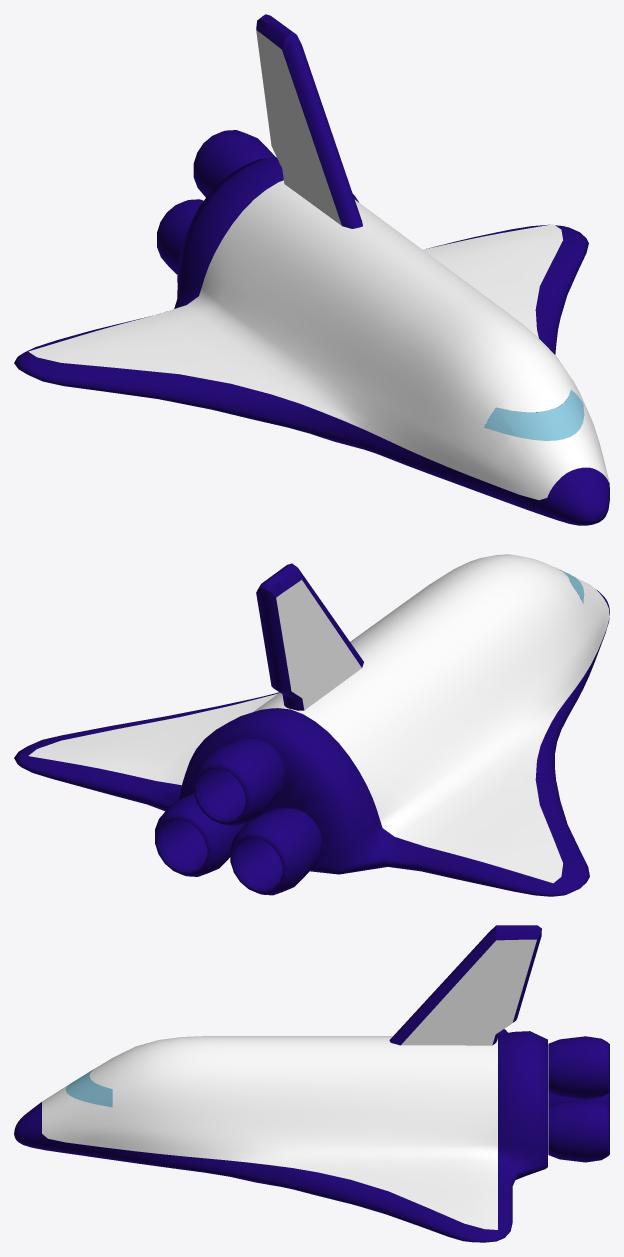
The model's file is spaceship2.fbx.
The picture shows the model from 3 angles, top to bottom: view 1: azimuth 30°, elevation 25°; view 2: azimuth 150°, elevation 25°; view 3: azimuth 270°, elevation 25°; orthographic projection. The views are drawn at different scales.
Visible parts, largest first — view 1: spaceship; view 2: spaceship; view 3: spaceship.
Boxes of the visible parts, x1,y1,x2,y2 form: spaceship: (14, 14, 609, 525); spaceship: (14, 554, 609, 896); spaceship: (14, 925, 609, 1242).
Size of the model in its own units: 14.94 by 7.15 by 17.32.
